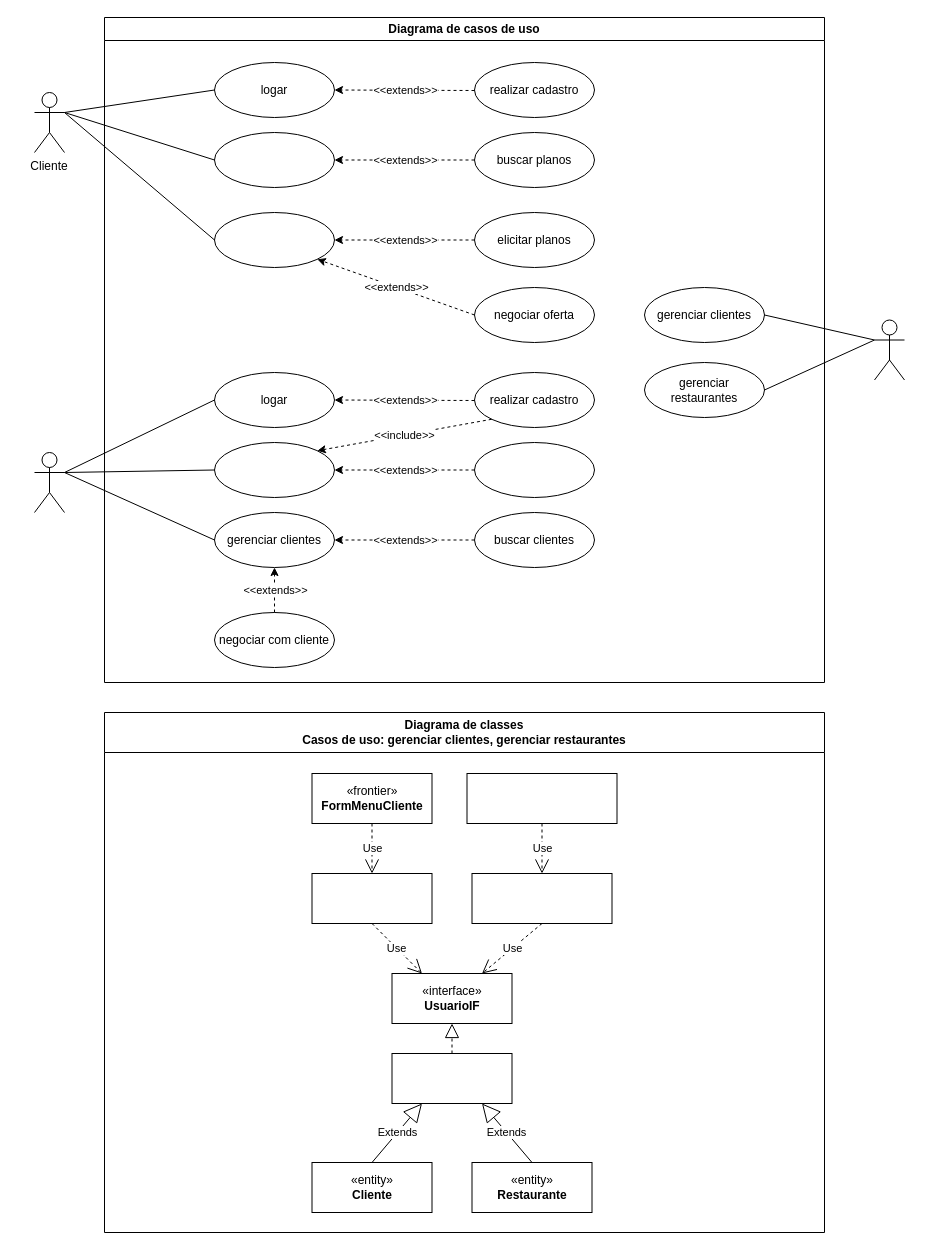
This 928x1250 diagram has some shape labels left out. Here are the shapes that lost their labels. From the top down, the centre of each, then its label:
At point 274,160: "gerenciar assinaturas".
At point 274,240: "gerenciar ofertas".
At point 889,349: "Suporte".
At point 49,482: "Restaurante".
At point 274,470: "gerenciar perfil".
At point 534,470: "gerenciar planos".
At point 541,798: "«frontier» FormMenuRestaurante".
At point 371,898: "«control» GerenciarCliente".
At point 541,898: "«control» GerenciarRestaurante".
At point 451,1078: "«entity» UsuarioAbstrato".
